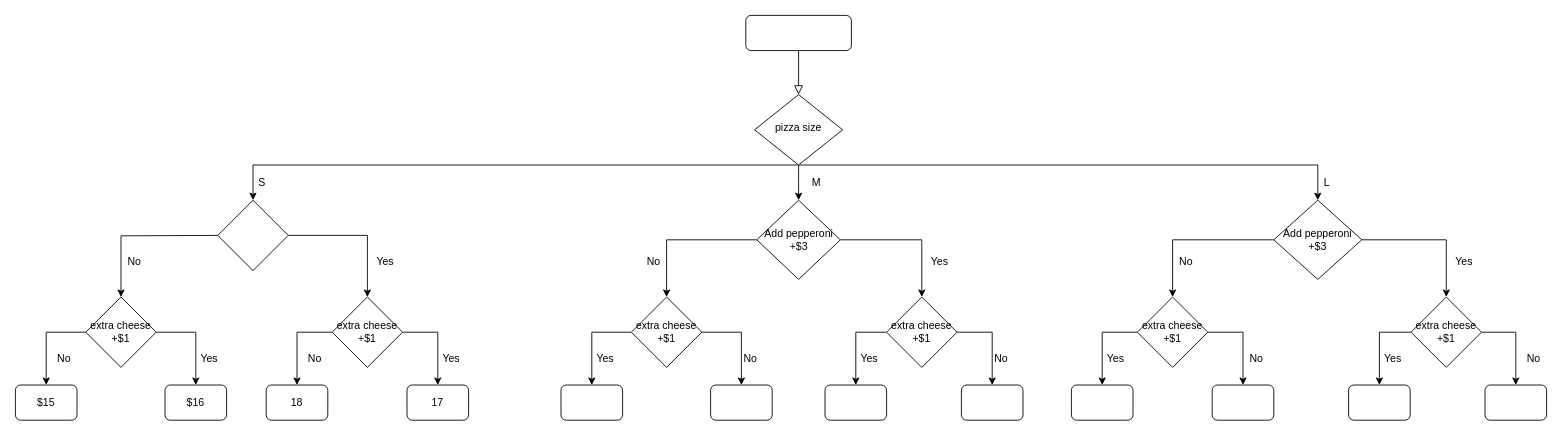
Some shapes in this 1562 by 436 pixel diagram are drawn without their labels. The shapes that lost their labels are listed below. From the top down, each one's box as (x1, y1, x2, y2) in pixels, then its label:
(745, 15, 851, 51): Pizza delivery
(217, 199, 288, 271): Add pepperoni +$2
